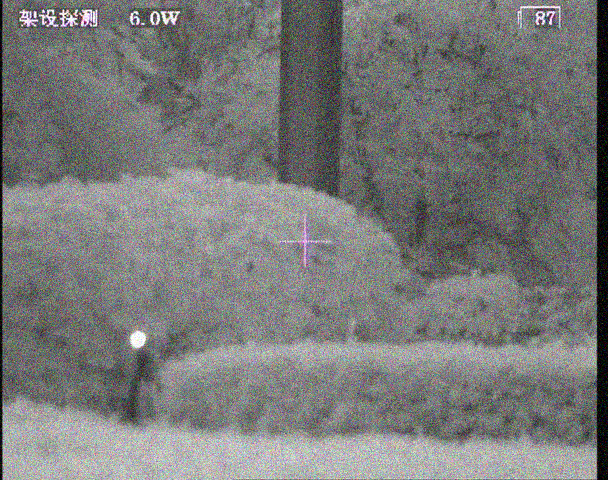my: (128, 330, 147, 350)
